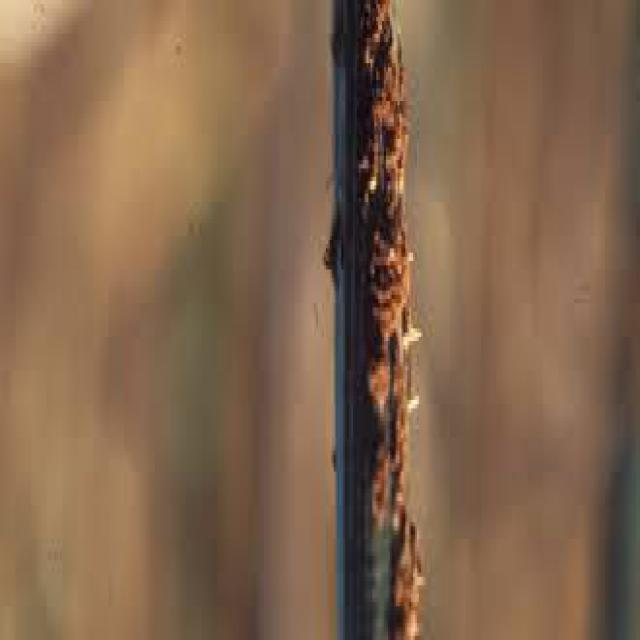wheat-stemrust: (320, 0, 427, 640)
